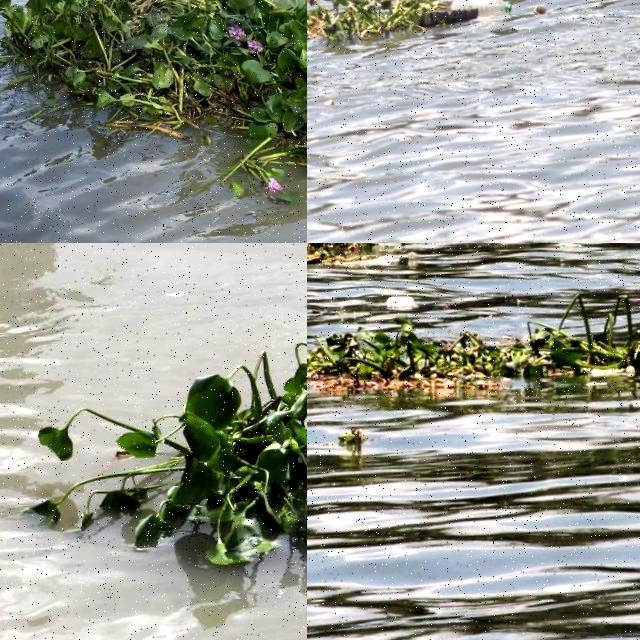water-hyacinth: (20, 339, 308, 575), (1, 1, 307, 212), (308, 295, 640, 403), (308, 1, 464, 60), (308, 244, 393, 267)
